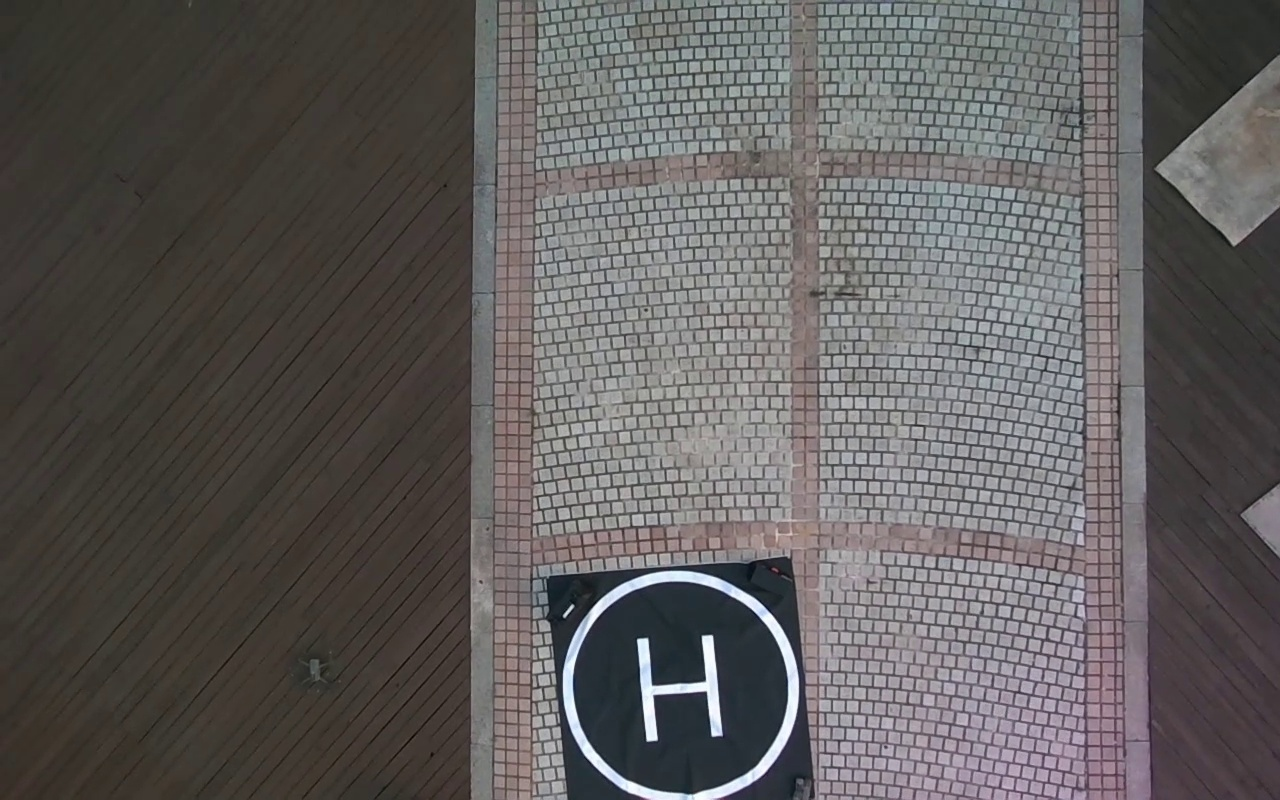H: (634, 632, 722, 742)
heliport: (560, 572, 802, 800)
